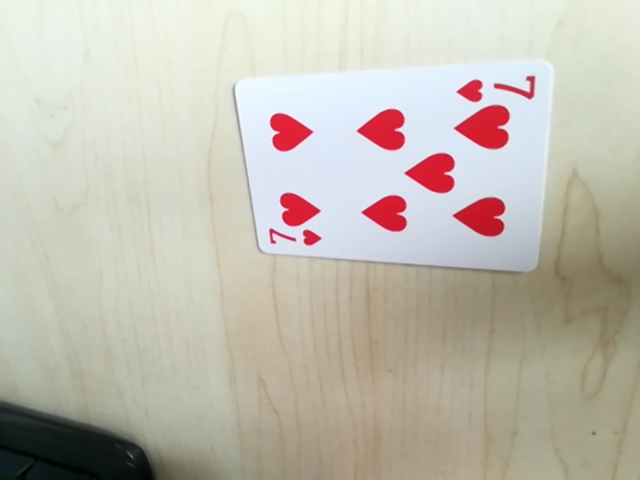hx 7: (455, 66, 544, 103), (263, 226, 327, 255)
